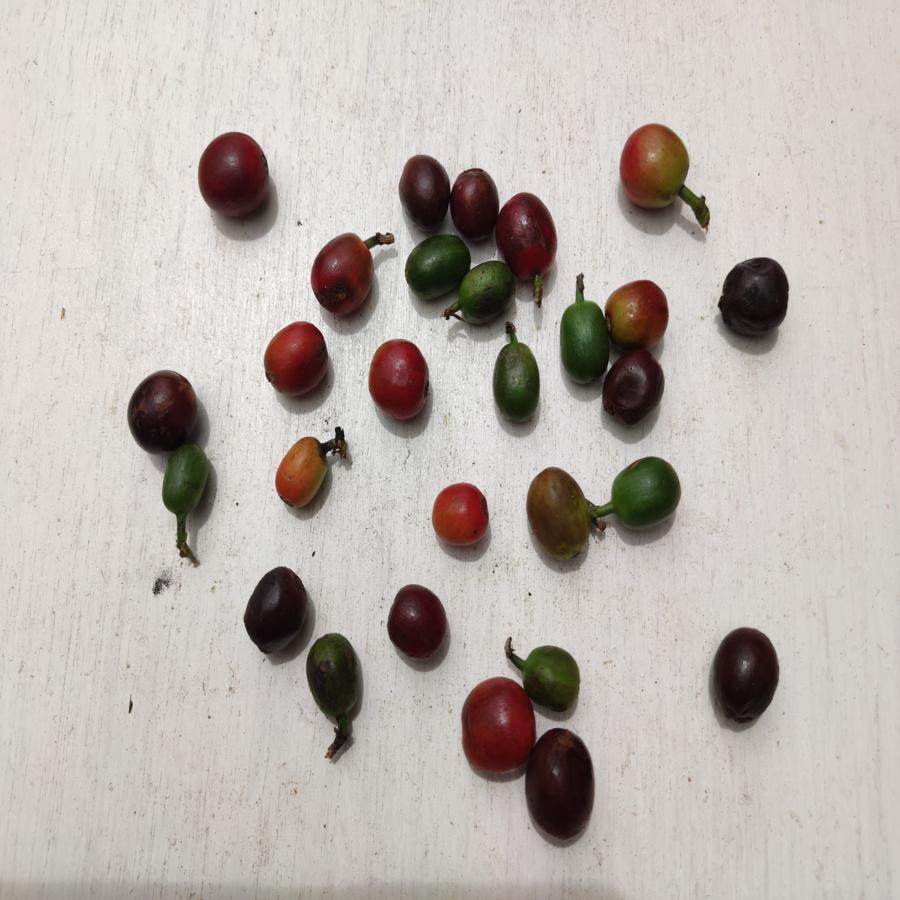Inmaduro: (609, 451, 682, 531), (489, 334, 549, 429), (309, 629, 362, 718), (560, 298, 609, 392), (406, 232, 468, 301), (520, 644, 584, 709), (453, 258, 516, 322), (162, 450, 212, 518)
Maduro: (453, 673, 534, 776), (365, 338, 441, 426), (263, 318, 334, 402), (311, 227, 380, 313)
Pinton: (521, 462, 591, 566), (620, 121, 695, 217), (269, 435, 331, 516), (431, 479, 493, 556), (606, 280, 668, 340)
Sobremaduro: (193, 128, 278, 227), (528, 727, 598, 841), (711, 624, 778, 730), (714, 254, 792, 338), (124, 367, 200, 446), (244, 568, 308, 660), (499, 189, 559, 277), (385, 585, 449, 663), (602, 349, 667, 419), (393, 155, 450, 232), (450, 167, 500, 242)
